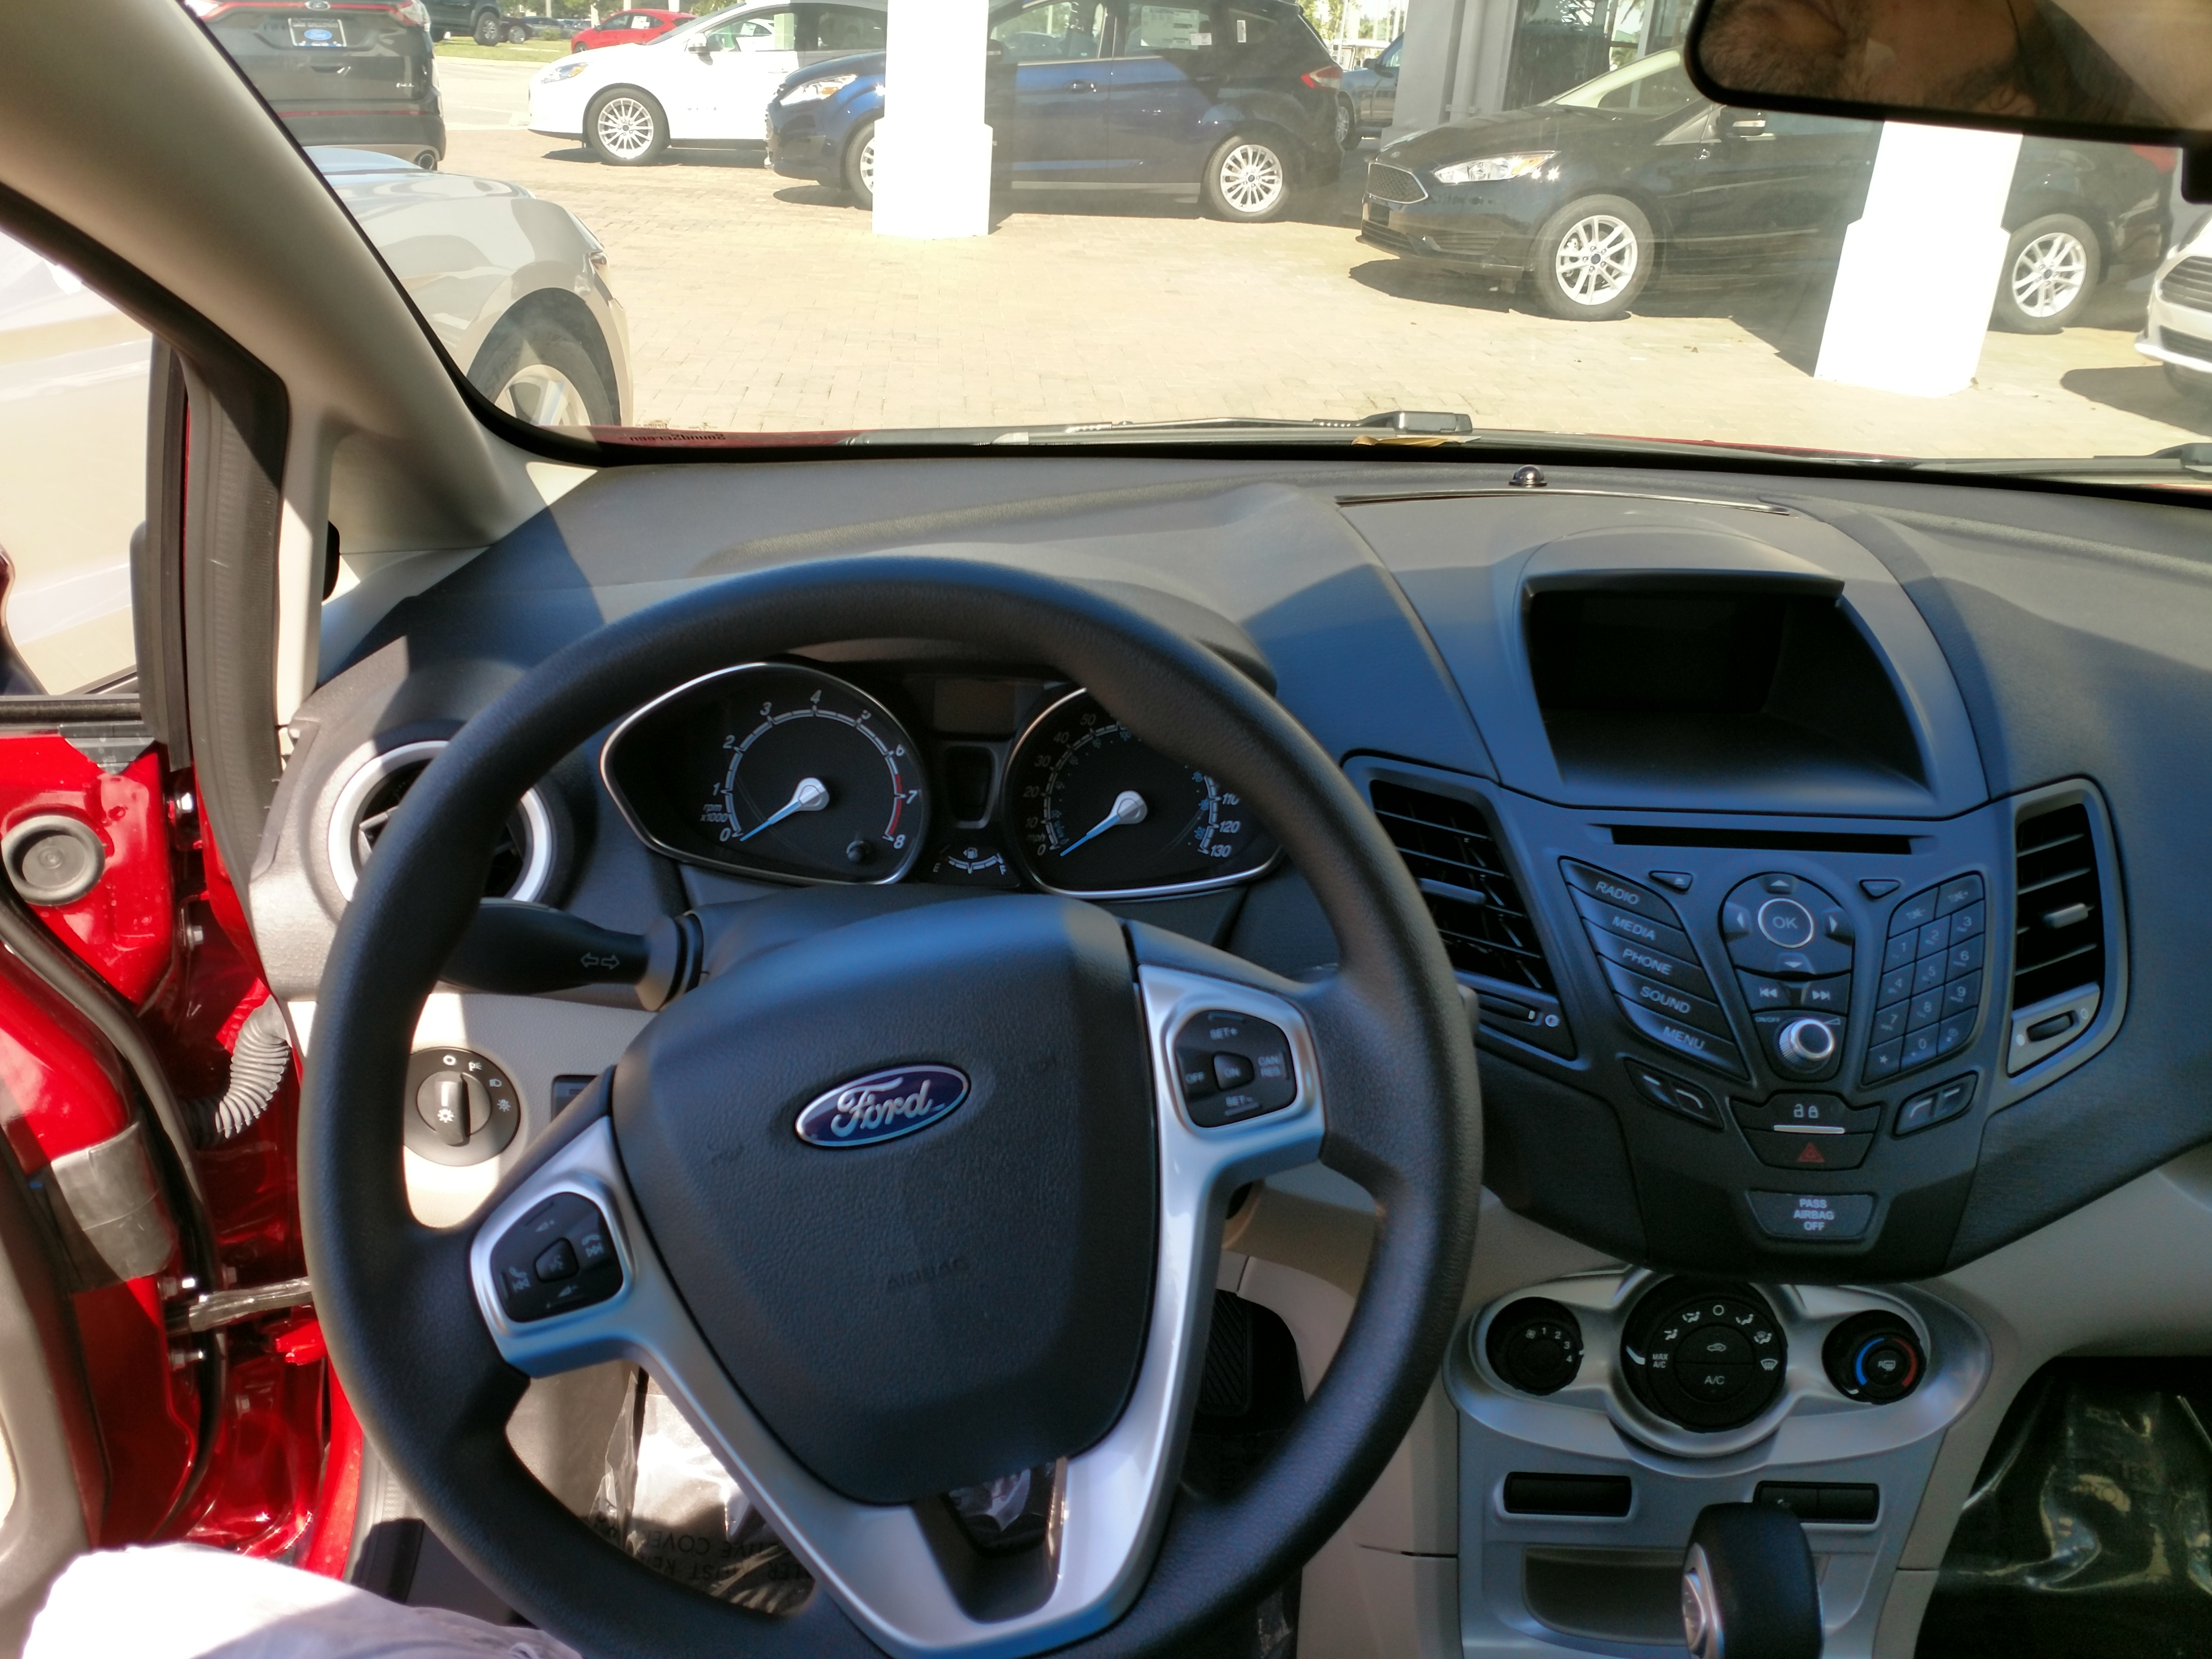Ford: (761, 1047, 991, 1164)
